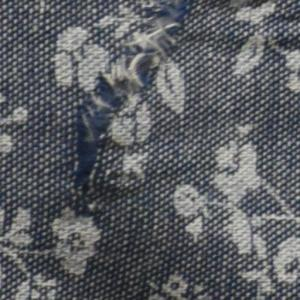Damage: (60, 1, 205, 213)
Wrinkle: (209, 1, 300, 63)
